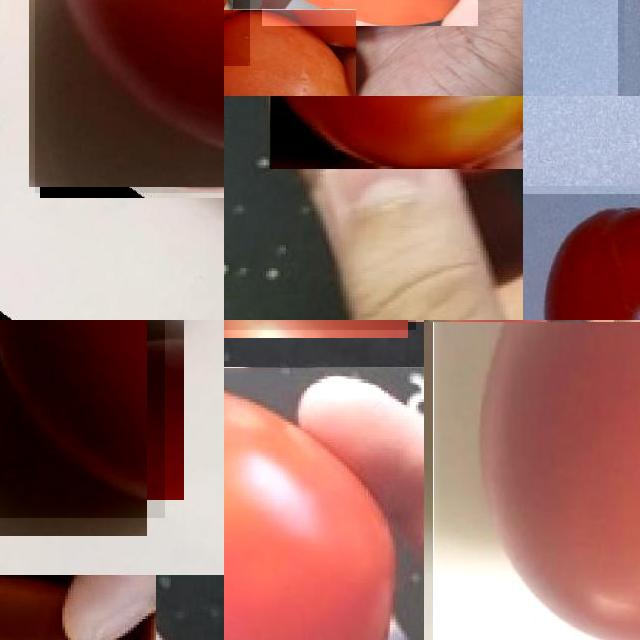0: (35, 0, 224, 192)
Fresh Tomato: (433, 322, 640, 640), (224, 367, 424, 640), (0, 320, 165, 518), (523, 194, 640, 320), (224, 9, 356, 96)
